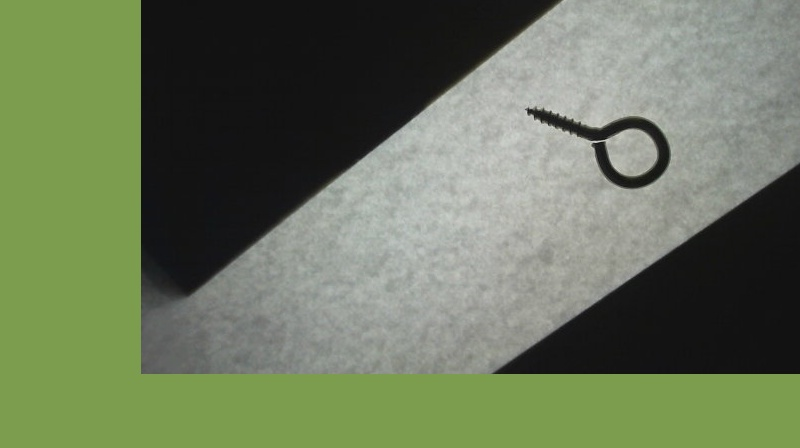O001: (521, 101, 674, 189)
